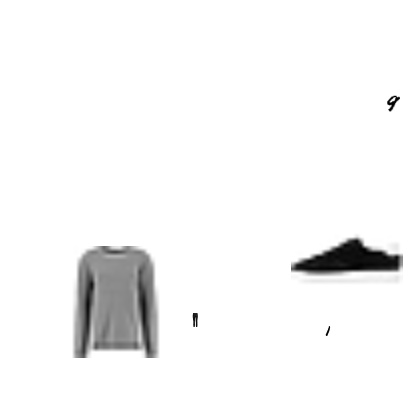1: (321, 324, 335, 338)
9: (381, 91, 403, 113)
Pullover: (58, 246, 170, 358)
Sneaker: (291, 203, 403, 315)
Trouser: (188, 313, 202, 327)
